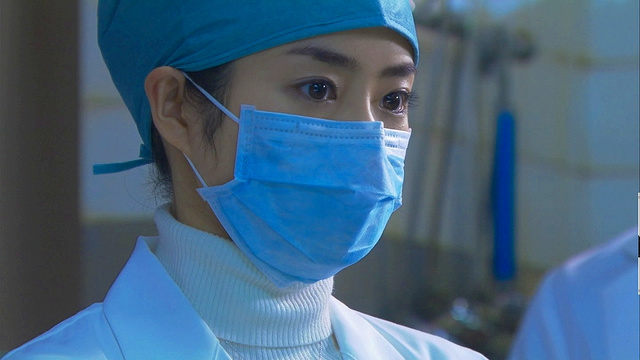face_mask: (206, 21, 411, 284)
